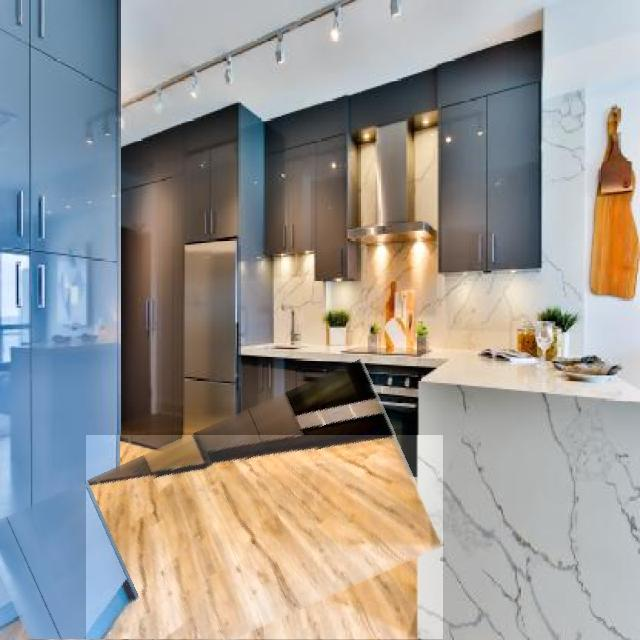floor: (86, 435, 443, 640)
